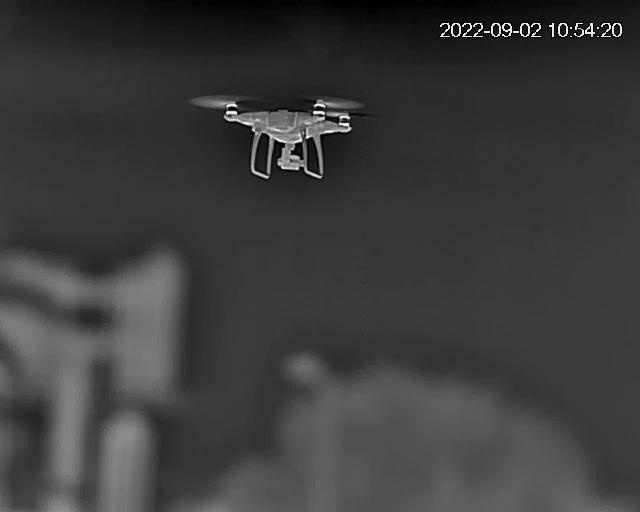DJI-Phantom: (194, 94, 371, 179)
